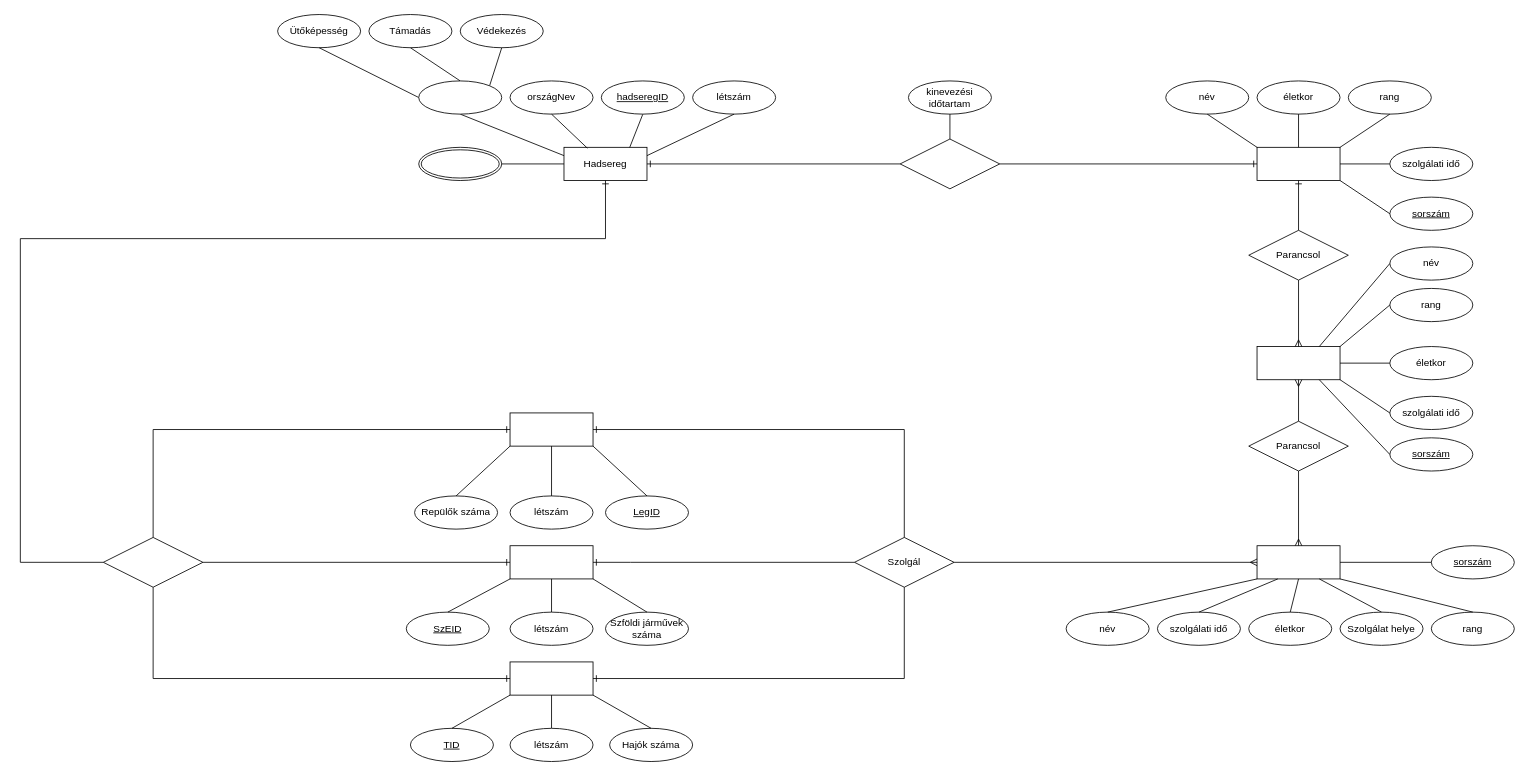
The diagram is 1529 pixels wide and 776 high, and some of its shapes have lost their labels. The shapes that lost their labels are listed below. From the top down, each one's centre as x and y in pixels, then its label:
pixel 460 97: fejlettség
pixel 460 163: Pozíció
pixel 949 163: irányítja
pixel 1298 163: Főparancsnok
pixel 1298 363: Tisztek
pixel 551 429: Légierő
pixel 153 562: Fegyvernem
pixel 551 562: Szárazföldi erők
pixel 1298 562: Katonák
pixel 551 678: Tengerészet
